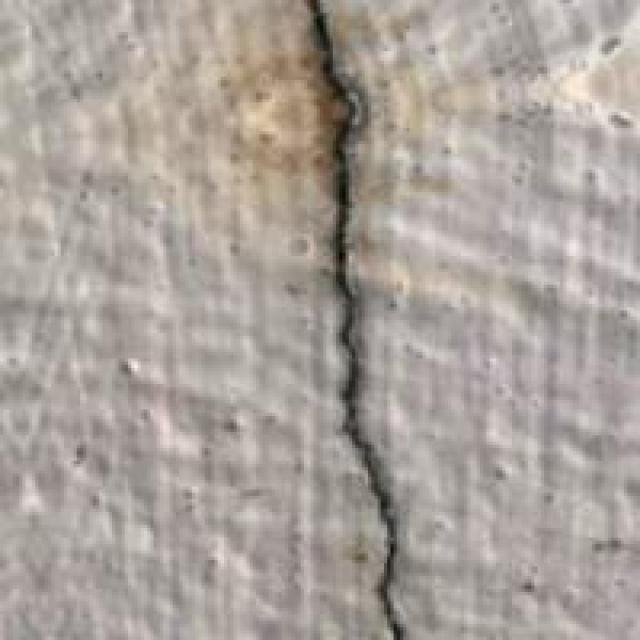Crack: (276, 0, 438, 637)
